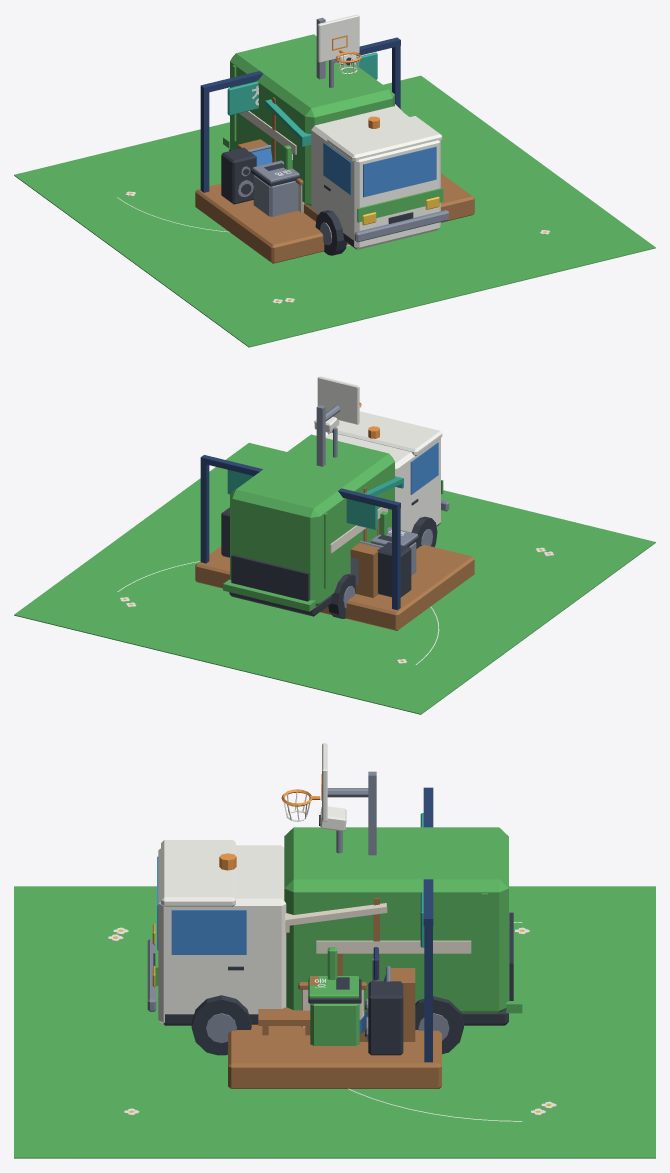
The model's file is zone_props.glb.
3 renders of one model, top to bottom at view 1: azimuth 30°, elevation 25°; view 2: azimuth 150°, elevation 25°; view 3: azimuth 270°, elevation 25°, orthographic. The views are drawn at different scales.
Visible parts, largest first — view 1: pt_grass_patch_mesh, tr_garbage_truck_mesh, yt_stage_mesh, yt_basketball_hoop_mesh, tr_recycle_set_mesh, sc_kiosk_mesh, yt_skate_ramp_mesh; view 2: pt_grass_patch_mesh, tr_garbage_truck_mesh, yt_stage_mesh, yt_basketball_hoop_mesh, yt_skate_ramp_mesh, tr_recycle_set_mesh; view 3: pt_grass_patch_mesh, tr_garbage_truck_mesh, yt_stage_mesh, tr_recycle_set_mesh, yt_basketball_hoop_mesh, sc_kiosk_mesh, yt_skate_ramp_mesh, tr_dumped_pile_mesh, tr_cctv_pole_mesh, yt_court_mesh.
Boxes of the visible parts, x1=… form: pt_grass_patch_mesh: x1=14, y1=75, x2=655, y2=347; tr_garbage_truck_mesh: x1=223, y1=34, x2=449, y2=255; yt_stage_mesh: x1=195, y1=37, x2=474, y2=263; yt_basketball_hoop_mesh: x1=316, y1=14, x2=361, y2=79; tr_recycle_set_mesh: x1=251, y1=160, x2=299, y2=216; sc_kiosk_mesh: x1=265, y1=97, x2=403, y2=212; yt_skate_ramp_mesh: x1=237, y1=139, x2=272, y2=166; pt_grass_patch_mesh: x1=14, y1=443, x2=655, y2=714; tr_garbage_truck_mesh: x1=223, y1=411, x2=449, y2=618; yt_stage_mesh: x1=195, y1=455, x2=474, y2=630; yt_basketball_hoop_mesh: x1=316, y1=376, x2=361, y2=466; yt_skate_ramp_mesh: x1=350, y1=540, x2=383, y2=597; tr_recycle_set_mesh: x1=371, y1=527, x2=418, y2=575; pt_grass_patch_mesh: x1=14, y1=886, x2=655, y2=1158; tr_garbage_truck_mesh: x1=147, y1=827, x2=522, y2=1055; yt_stage_mesh: x1=228, y1=787, x2=441, y2=1088; tr_recycle_set_mesh: x1=308, y1=976, x2=361, y2=1045; yt_basketball_hoop_mesh: x1=281, y1=743, x2=376, y2=855; sc_kiosk_mesh: x1=285, y1=898, x2=387, y2=1027; yt_skate_ramp_mesh: x1=359, y1=966, x2=415, y2=1041; tr_dumped_pile_mesh: x1=258, y1=976, x2=318, y2=1035; tr_cctv_pole_mesh: x1=319, y1=806, x2=346, y2=853; yt_court_mesh: x1=68, y1=922, x2=602, y2=1158.
Bounding box in the file's own units: 12 × 5.5 × 12.
